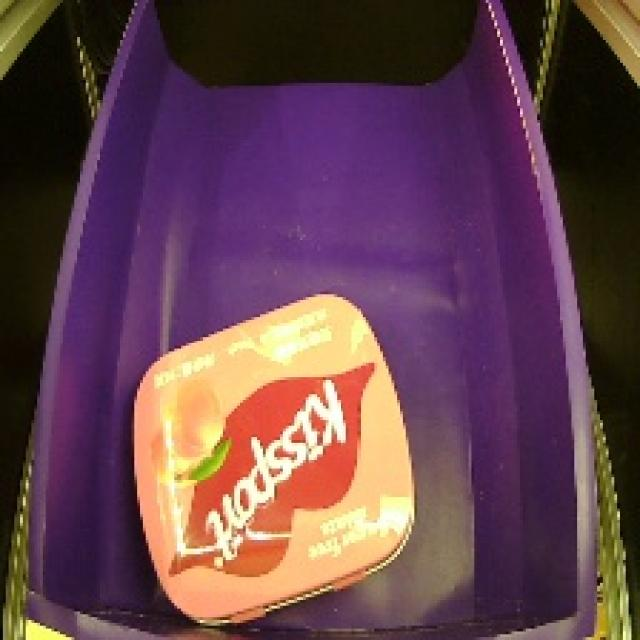metal: (101, 275, 427, 637)
